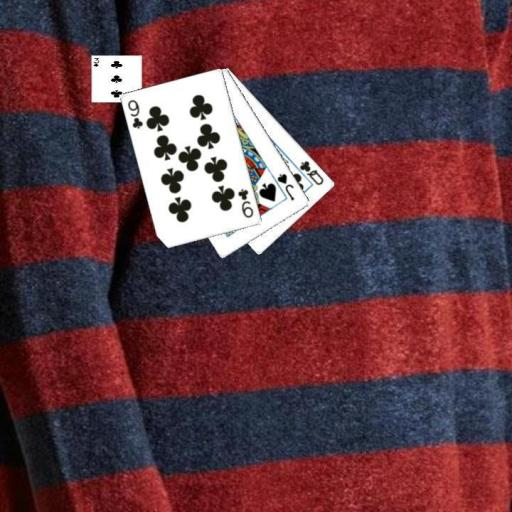card-corner: (296, 158, 326, 187), (274, 170, 296, 202), (235, 186, 255, 220), (124, 97, 144, 130)
